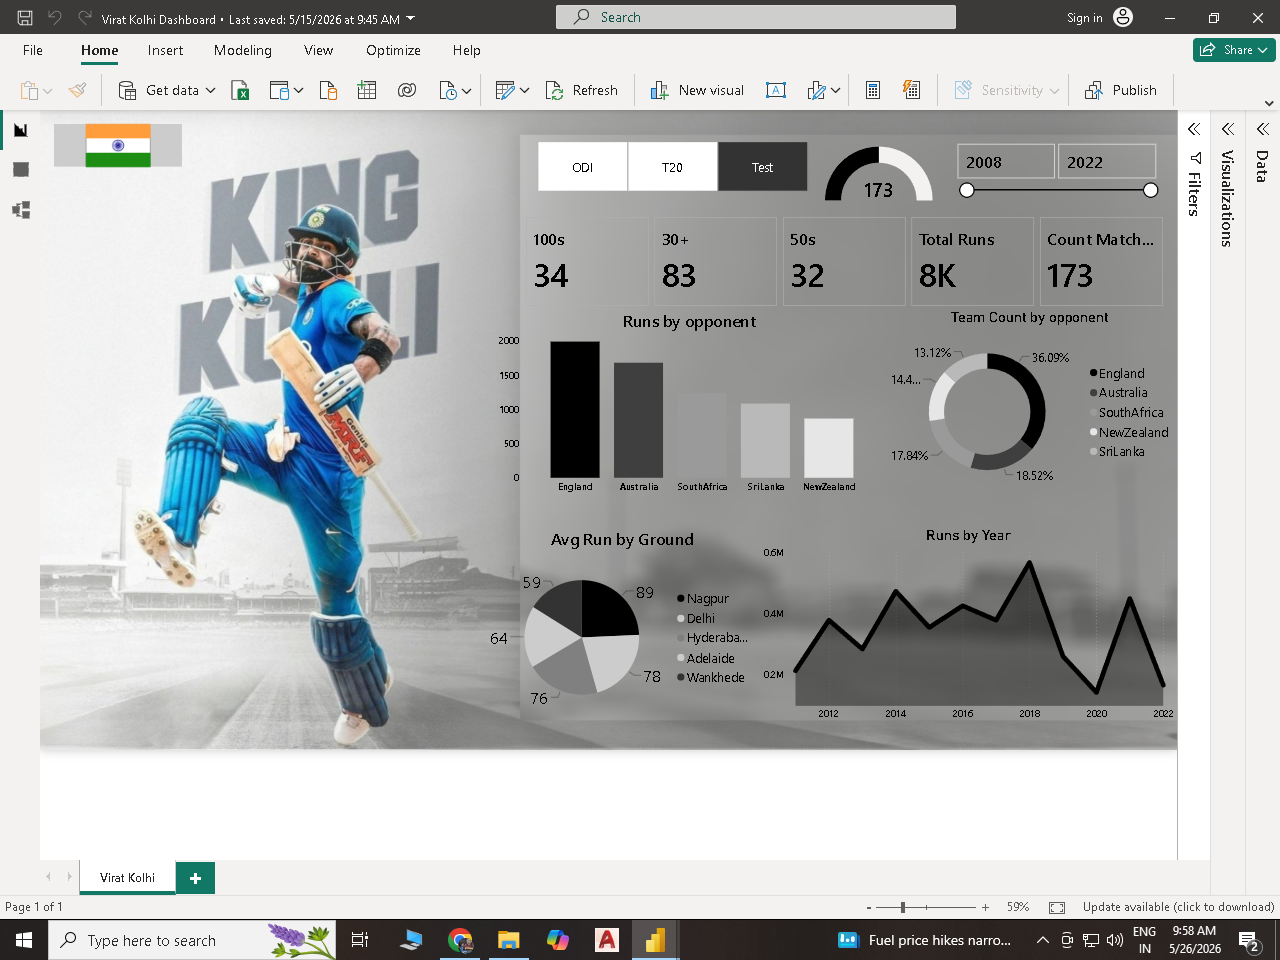

The dashboard page shown, as its layout file describes it:
{"tool":"powerbi","page":{"name":"Virat Kolhi","canvas":[1920,1080],"ordinal":0},"visuals":[{"type":"cardVisual","fields":{"Data":["Sum(Virat_Kohli.100s)","Sum(Virat_Kohli.30+)","Sum(Virat_Kohli.50s)","Sum(Virat_Kohli.runs)","CountNonNull(Virat_Kohli.Match_No)"]},"box":[816,176,1088,160],"z":0},{"type":"clusteredColumnChart","title":"Runs by opponent","fields":{"Y":["Sum(Virat_Kohli.runs)"],"Category":["Virat_Kohli.opponent"]},"box":[768,336,656,320],"z":1000},{"type":"donutChart","title":"Team Count by opponent","fields":{"Category":["Virat_Kohli.opponent"],"Y":["Sum(Virat_Kohli.total)"]},"box":[1424,336,496,320],"z":2000},{"type":"stackedAreaChart","title":" Runs by Year","fields":{"Y":["Sum(Virat_Kohli.Total Runs)"],"Category":["Virat_Kohli.Year"]},"box":[1216,704,704,336],"z":3000},{"type":"pieChart","title":"Avg Run by Ground","fields":{"Category":["Virat_Kohli.ground"],"Y":["Avg(Virat_Kohli.runs)"]},"box":[752,704,464,336],"z":4000},{"type":"slicer","fields":{"Values":["Virat_Kohli.Year"]},"box":[1536,48,360,120],"z":5000},{"type":"slicer","fields":{"Values":["Virat_Kohli.match"]},"box":[816,48,504,96],"z":6000},{"type":"gauge","fields":{"Y":["CountNonNull(Virat_Kohli.match)"]},"box":[1320,48,192,120],"z":6001},{"type":"kpi","fields":{"Indicator":["CountNonNull(Virat_Kohli.index)"]},"box":[24,24,216,72],"z":6002},{"type":"image","box":[0,0,264,120],"z":6003}]}

Visuals, with their boxes on the page's 1920x1080 design canvas (x1, y1, x2, y2). These are canvas units, not pixel positions in the 1280x960 screenshot, which may show the page scaled, cropped or inside an application window:
cardVisual - Sum(Virat_Kohli.100s) x Sum(Virat_Kohli.30+): l=816, t=176, r=1904, b=336
"Runs by opponent" clusteredColumnChart: l=768, t=336, r=1424, b=656
"Team Count by opponent" donutChart: l=1424, t=336, r=1920, b=656
" Runs by Year" stackedAreaChart: l=1216, t=704, r=1920, b=1040
"Avg Run by Ground" pieChart: l=752, t=704, r=1216, b=1040
slicer - Virat_Kohli.Year: l=1536, t=48, r=1896, b=168
slicer - Virat_Kohli.match: l=816, t=48, r=1320, b=144
gauge - CountNonNull(Virat_Kohli.match): l=1320, t=48, r=1512, b=168
kpi - CountNonNull(Virat_Kohli.index): l=24, t=24, r=240, b=96
image: l=0, t=0, r=264, b=120
